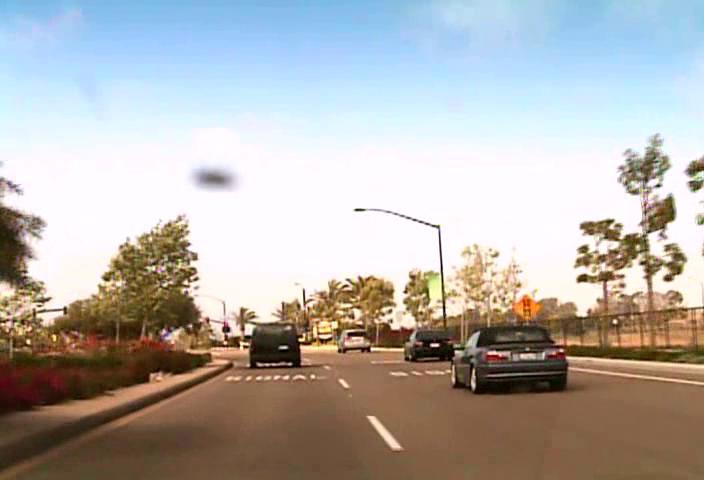signalAhead: (511, 294, 541, 323)
